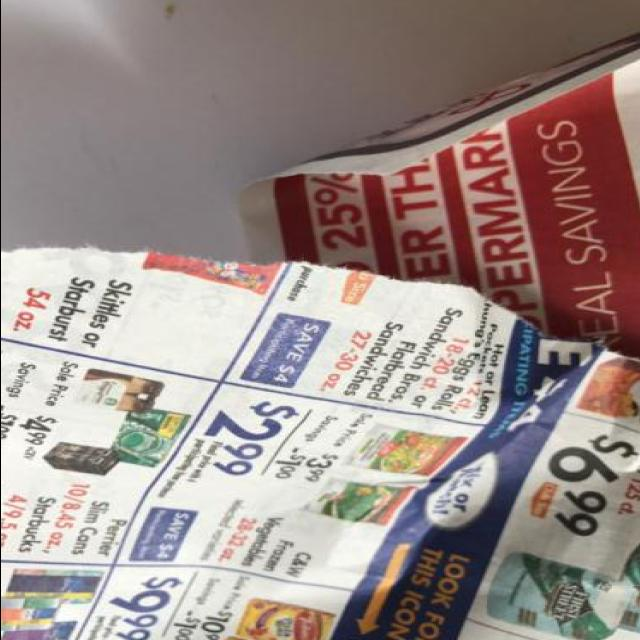kertas: (0, 25, 640, 640)
